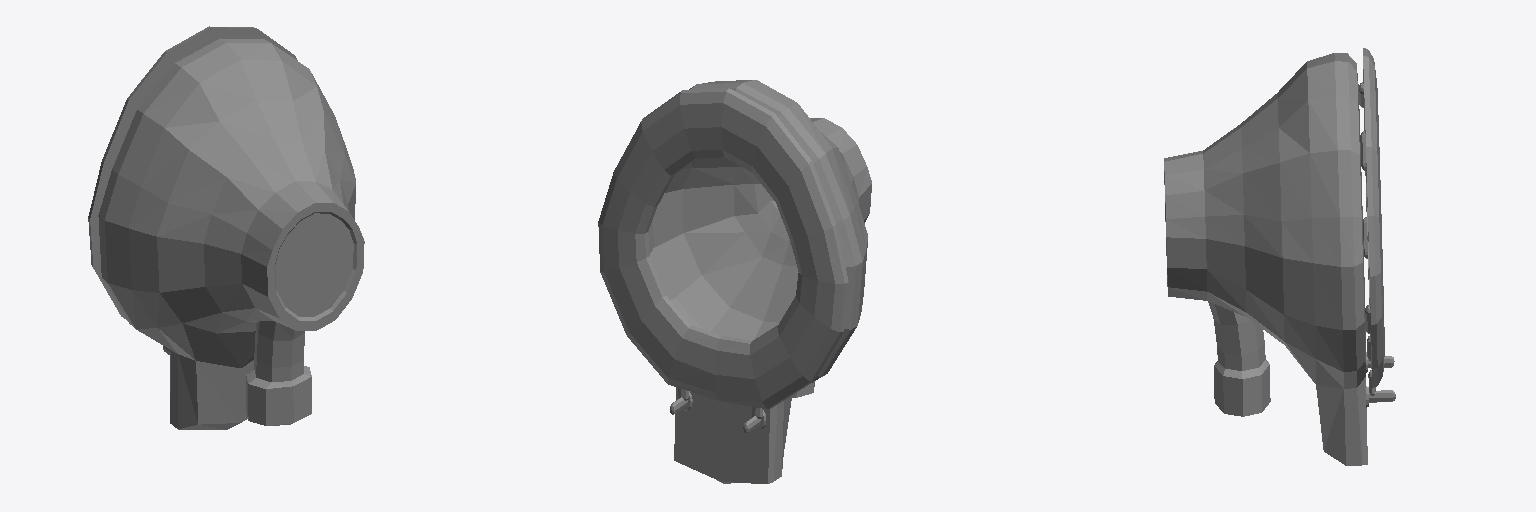
The model's file is toilet.obj.
3 renders of one model, left to right at view 1: azimuth 30°, elevation 25°; view 2: azimuth 150°, elevation 25°; view 3: azimuth 270°, elevation 25°, orthographic.
Parts seen in each view (by area): view 1: FIT_Toilet_Toilet; view 2: FIT_Toilet_Toilet; view 3: FIT_Toilet_Toilet.
Boxes of the visible parts, x1=… form: FIT_Toilet_Toilet: x1=88, y1=26, x2=364, y2=429; FIT_Toilet_Toilet: x1=598, y1=80, x2=871, y2=483; FIT_Toilet_Toilet: x1=1164, y1=48, x2=1395, y2=465.
Size of the model in its own units: 1.06 by 1.63 by 0.8609.